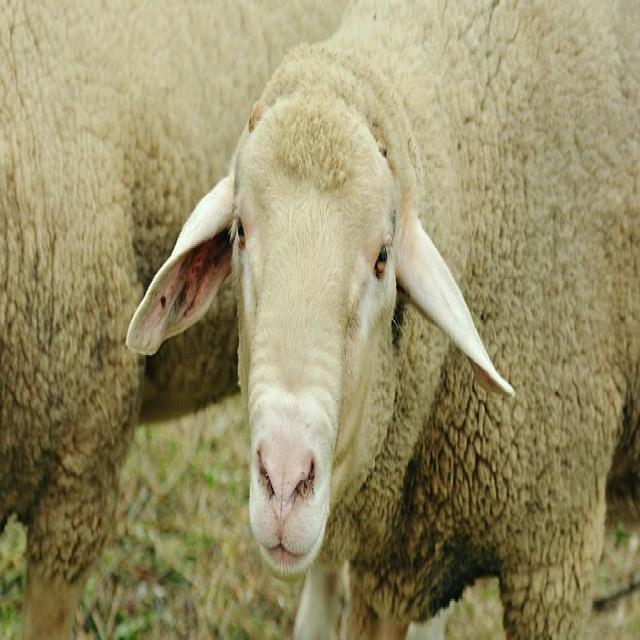goat: (125, 0, 640, 640), (0, 0, 351, 640)
